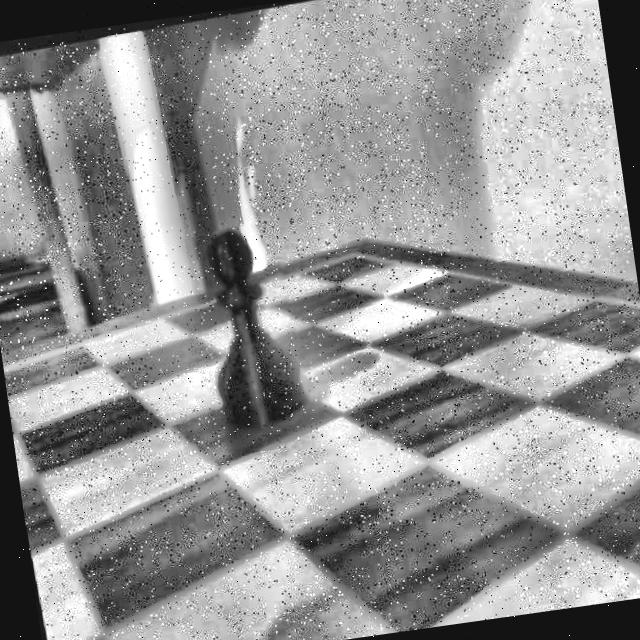black-pawn: (177, 216, 311, 440)
